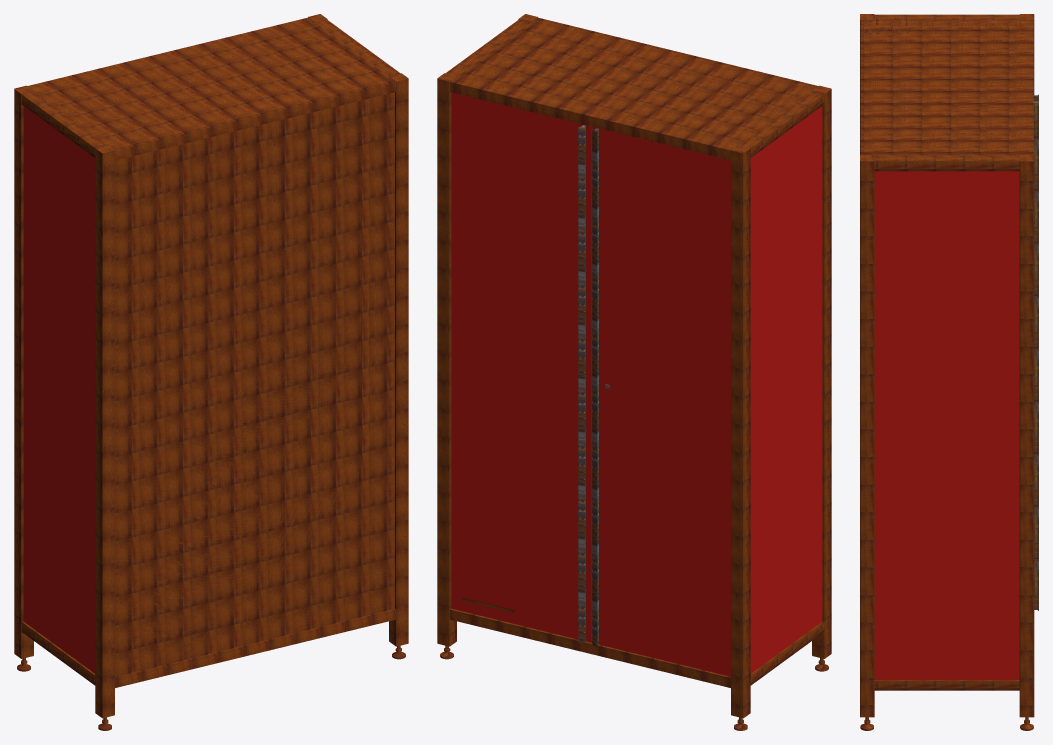
3 views of the same model, side by side, from view 1: azimuth 30°, elevation 25°; view 2: azimuth 150°, elevation 25°; view 3: azimuth 270°, elevation 25° (orthographic).
Parts seen in each view (by area): view 1: mesh4_mesh4-geometry, mesh2_mesh2-geometry, mesh1_mesh1-geometry, mesh9_mesh9-geometry, mesh5_mesh5-geometry, mesh6_mesh6-geometry, mesh7_mesh7-geometry; view 2: mesh12_mesh12-geometry, mesh11_mesh11-geometry, mesh2_mesh2-geometry, mesh1_mesh1-geometry, mesh9_mesh9-geometry, mesh5_mesh5-geometry, mesh6_mesh6-geometry, mesh7_mesh7-geometry; view 3: mesh3_mesh3-geometry, mesh1_mesh1-geometry, mesh9_mesh9-geometry, mesh6_mesh6-geometry, mesh12_mesh12-geometry, mesh7_mesh7-geometry.
Part boxes in pixels (left/top/right/bottom): mesh4_mesh4-geometry: left=115, top=92, right=394, bottom=676; mesh2_mesh2-geometry: left=23, top=106, right=95, bottom=673; mesh1_mesh1-geometry: left=28, top=17, right=395, bottom=160; mesh9_mesh9-geometry: left=14, top=14, right=408, bottom=718; mesh5_mesh5-geometry: left=115, top=609, right=395, bottom=687; mesh6_mesh6-geometry: left=21, top=20, right=400, bottom=157; mesh7_mesh7-geometry: left=21, top=621, right=95, bottom=685; mesh12_mesh12-geometry: left=451, top=92, right=591, bottom=642; mesh11_mesh11-geometry: left=591, top=126, right=730, bottom=676; mesh2_mesh2-geometry: left=750, top=106, right=822, bottom=673; mesh1_mesh1-geometry: left=450, top=17, right=817, bottom=160; mesh9_mesh9-geometry: left=437, top=14, right=831, bottom=718; mesh5_mesh5-geometry: left=450, top=608, right=730, bottom=687; mesh6_mesh6-geometry: left=445, top=20, right=824, bottom=157; mesh7_mesh7-geometry: left=750, top=621, right=824, bottom=685; mesh3_mesh3-geometry: left=874, top=171, right=1019, bottom=679; mesh1_mesh1-geometry: left=860, top=20, right=1033, bottom=155; mesh9_mesh9-geometry: left=860, top=14, right=1034, bottom=717; mesh6_mesh6-geometry: left=874, top=14, right=1019, bottom=171; mesh12_mesh12-geometry: left=1033, top=101, right=1038, bottom=610; mesh7_mesh7-geometry: left=874, top=680, right=1019, bottom=690.
Size of the model in its own units: 0.4705 by 0.8487 by 0.2416.
